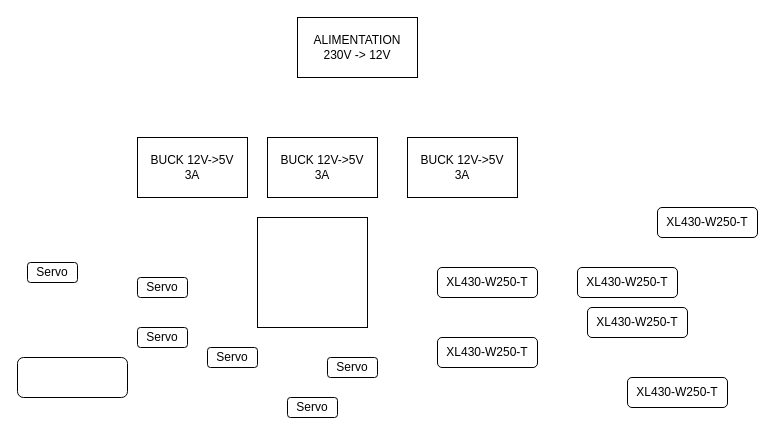
Image size: 775x435. Some labels were removed from this diagram. The box of each missing label's shape, as (x1, y1, x2, y2) in pixels:
HC05 (Bluetooth): (16, 356, 128, 398)
Processeur STM32G474RET6: (256, 216, 368, 328)
